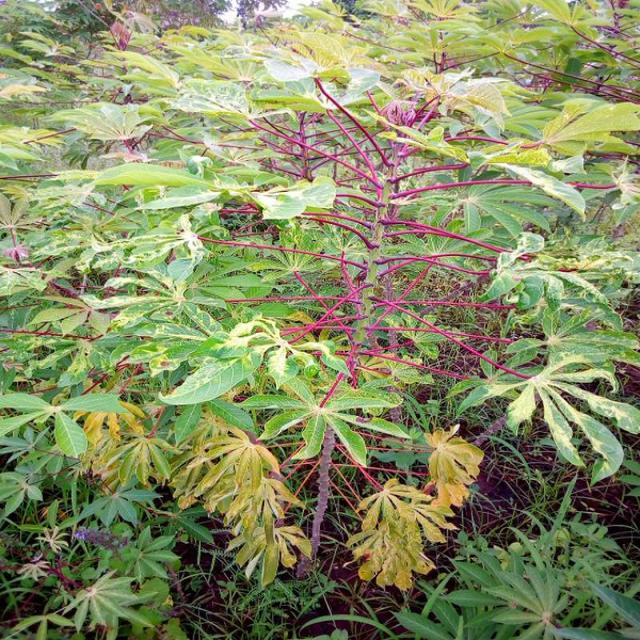Mosaico: (484, 345, 640, 456), (169, 79, 310, 145), (243, 385, 395, 446), (62, 423, 173, 495), (166, 466, 295, 526), (366, 480, 436, 575), (232, 313, 320, 382), (233, 520, 320, 589), (414, 420, 490, 496), (491, 131, 582, 189), (70, 383, 138, 456), (550, 109, 640, 162), (202, 412, 261, 488), (386, 124, 476, 172)
